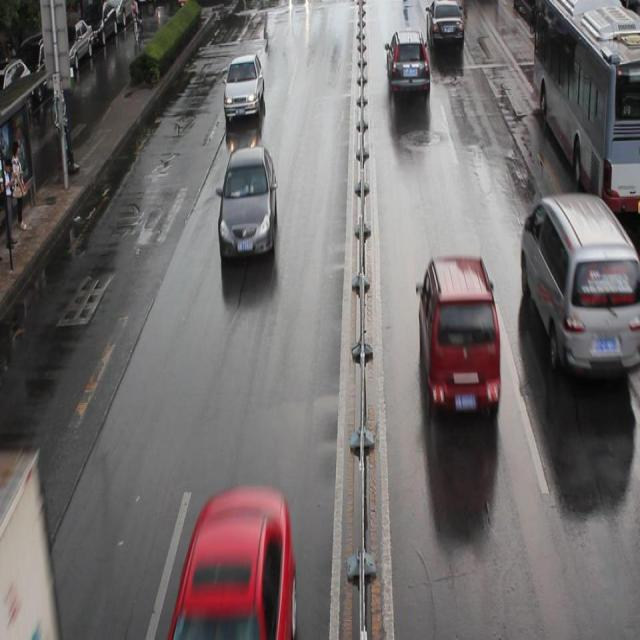bus: (0, 449, 62, 640)
car: (168, 481, 297, 640), (417, 256, 500, 422), (217, 147, 277, 260), (385, 30, 430, 97), (222, 54, 264, 120), (425, 1, 464, 46)
truck: (520, 192, 640, 378)
van: (531, 1, 640, 212)
